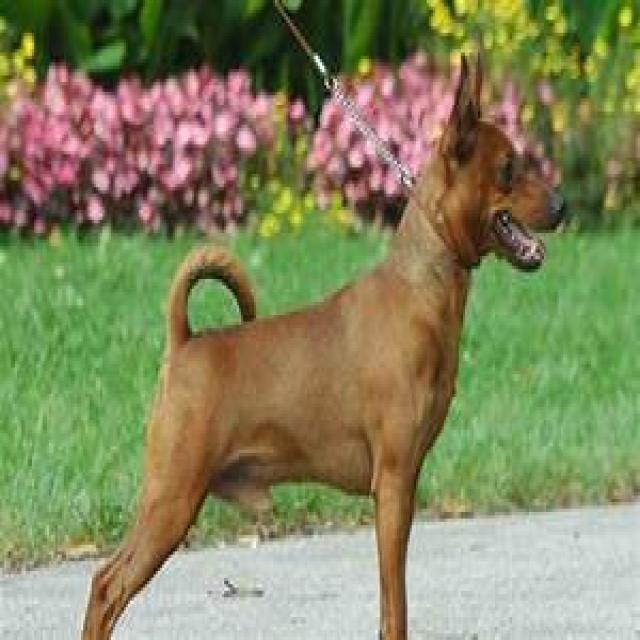dog: (79, 66, 565, 640)
